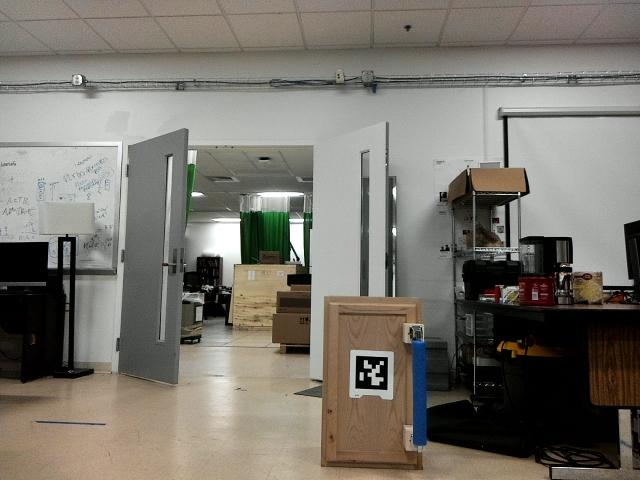noodle_handle: (406, 336, 432, 454)
